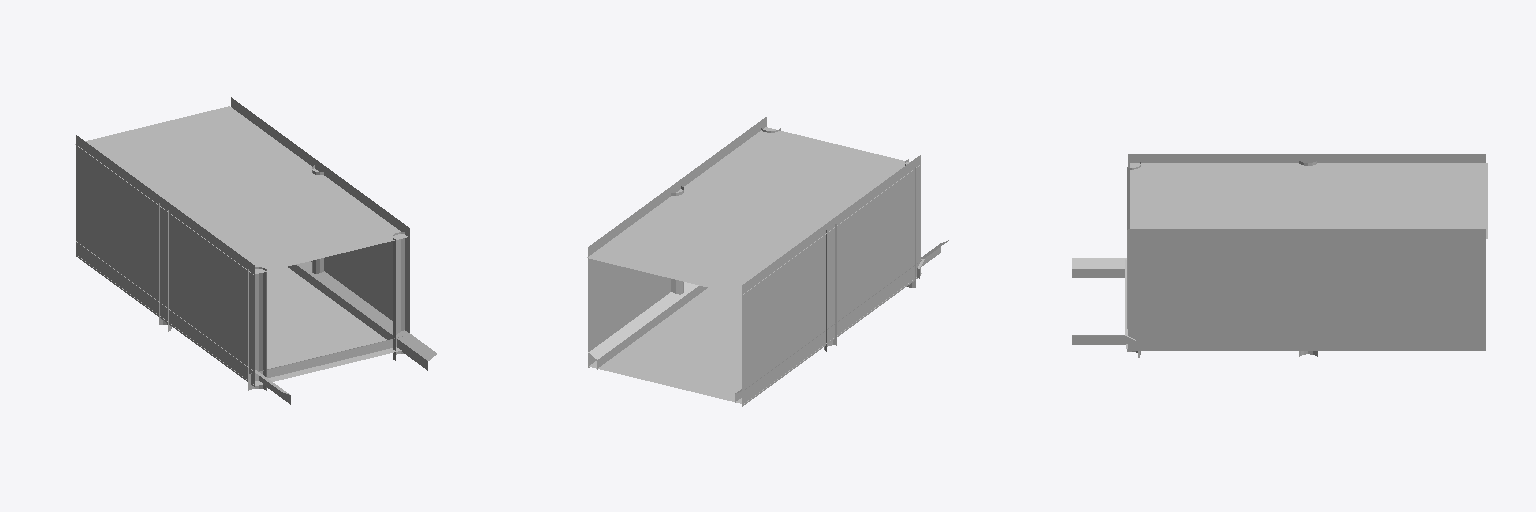
Rendered from caca2.obj.
3 renders of one model, left to right at view 1: azimuth 30°, elevation 25°; view 2: azimuth 150°, elevation 25°; view 3: azimuth 270°, elevation 25°, orthographic.
Parts seen in each view (by area): view 1: Plane_4, Plane_1, Plane, Plane_2, Cube_2, Cylinder, Cylinder_1, Cube_1; view 2: Plane_4, Plane_1, Plane, Plane_2, Cube_2; view 3: Plane_2, Plane_4, Plane_1, Cube_3, Cube_2.
Boxes of the visible parts, x1=… form: Plane_4: x1=75, y1=106, x2=407, y2=274; Plane_1: x1=76, y1=135, x2=254, y2=386; Plane: x1=78, y1=256, x2=401, y2=385; Plane_2: x1=231, y1=97, x2=409, y2=332; Cube_2: x1=288, y1=261, x2=436, y2=370; Cylinder: x1=248, y1=267, x2=266, y2=390; Cylinder_1: x1=393, y1=232, x2=404, y2=360; Cube_1: x1=248, y1=336, x2=402, y2=383; Plane_4: x1=587, y1=127, x2=919, y2=295; Plane_1: x1=742, y1=155, x2=920, y2=406; Plane: x1=589, y1=273, x2=921, y2=403; Plane_2: x1=588, y1=117, x2=766, y2=367; Cube_2: x1=588, y1=282, x2=707, y2=369; Plane_2: x1=1128, y1=229, x2=1485, y2=350; Plane_4: x1=1130, y1=163, x2=1487, y2=238; Plane_1: x1=1128, y1=154, x2=1485, y2=167; Cube_3: x1=1072, y1=258, x2=1126, y2=277; Cube_2: x1=1072, y1=335, x2=1127, y2=344.
Bounding box in the file's own units: 8.22 × 6.39 × 18.56.